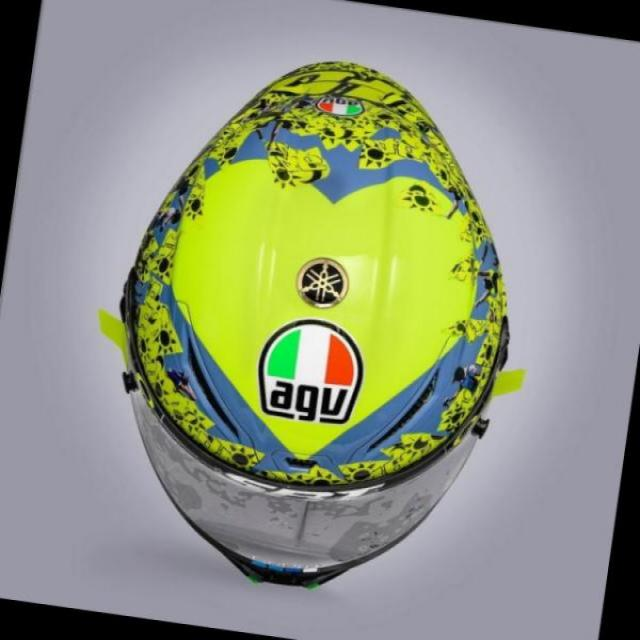Helmet: (121, 73, 488, 593)
